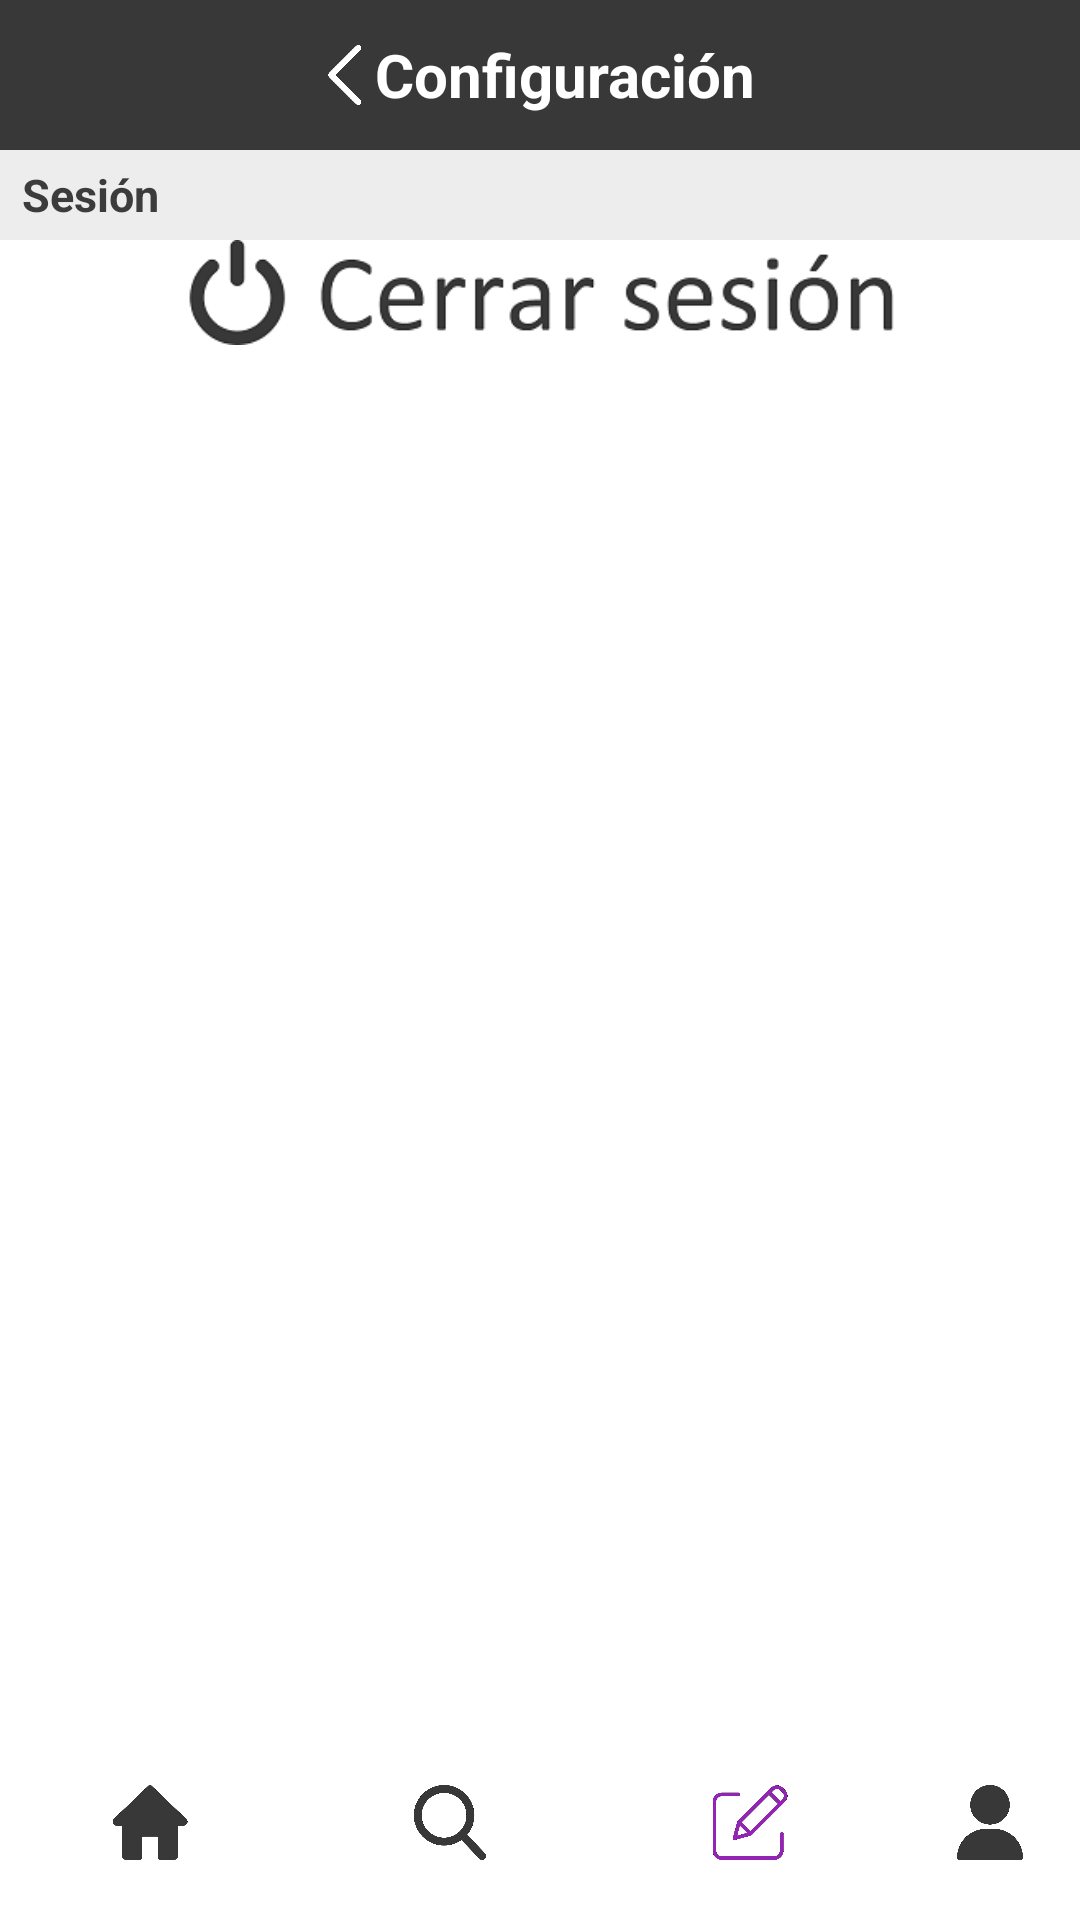

Named icons in this screenshot (1080×1920) and their bounding boxes, (x1=x1, y1=y1, x2=x2, y2=y2):
back: (x1=328, y1=45, x2=361, y2=105)
edit: (x1=713, y1=1785, x2=788, y2=1860)
home: (x1=113, y1=1785, x2=188, y2=1860)
search: (x1=414, y1=1785, x2=486, y2=1860)
user: (x1=957, y1=1785, x2=1023, y2=1860)
